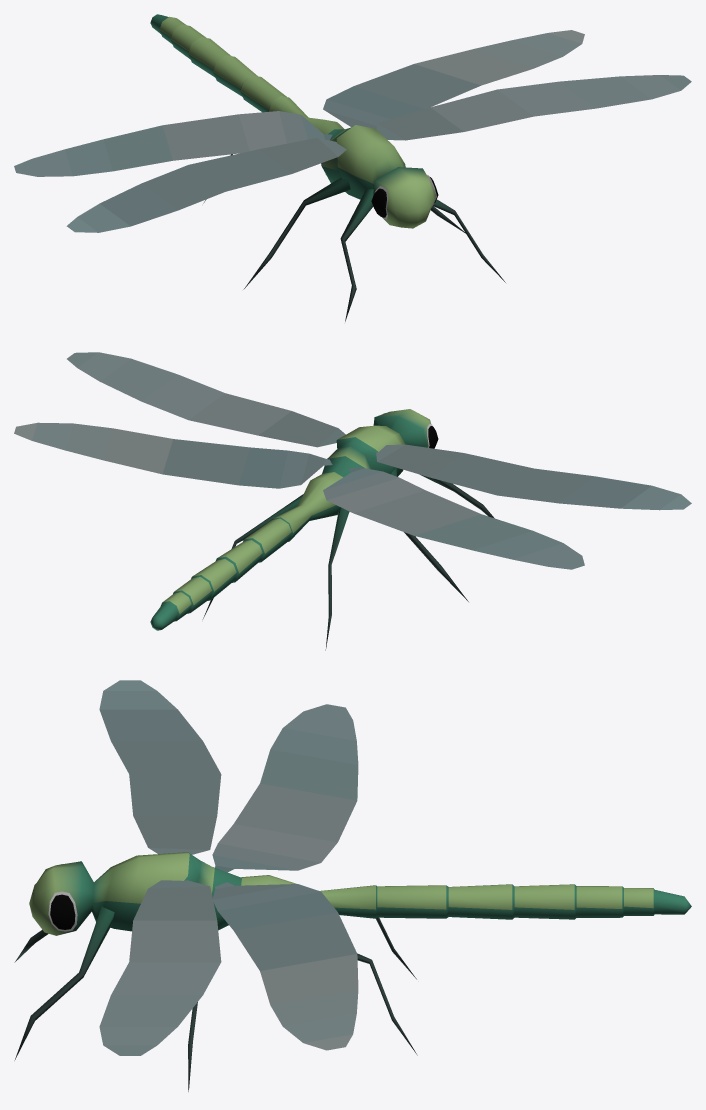
The model's file is FlyingInsects_Dragonfly.fbx.
The picture shows the model from 3 angles, top to bottom: view 1: azimuth 30°, elevation 25°; view 2: azimuth 150°, elevation 25°; view 3: azimuth 270°, elevation 25°; orthographic projection. The views are drawn at different scales.
Visible parts, largest first — view 1: base; view 2: base; view 3: base.
Boxes of the visible parts, box(x1,y1,x2,y2) form: base: box(14, 14, 691, 321); base: box(14, 352, 691, 650); base: box(14, 680, 691, 1091).
Size of the model in its own units: 107 by 22.92 by 81.52.
